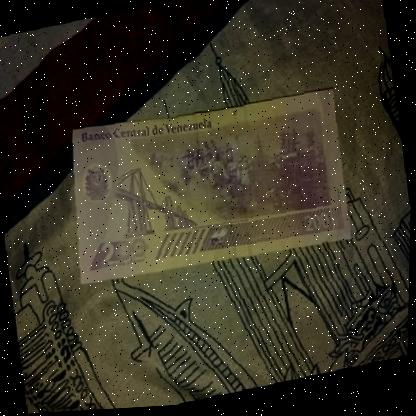two_hundred-back-vef: (61, 84, 354, 289)
